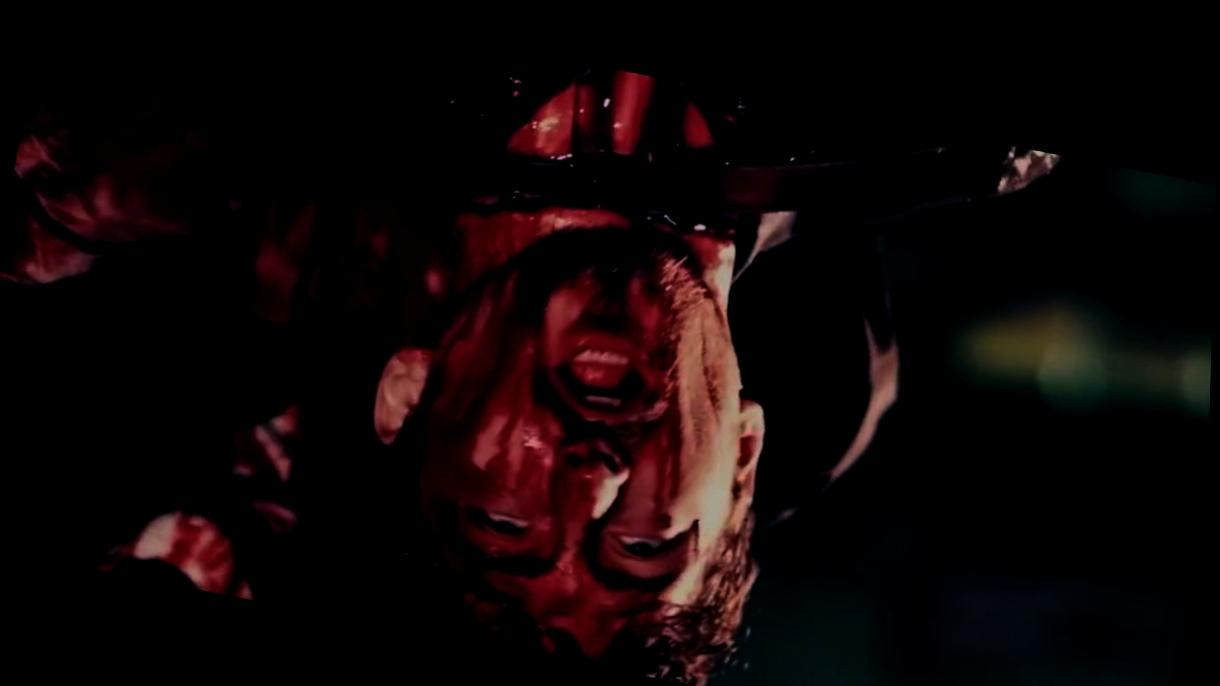Fire: (0, 60, 769, 654), (99, 419, 301, 596), (266, 401, 301, 450)
